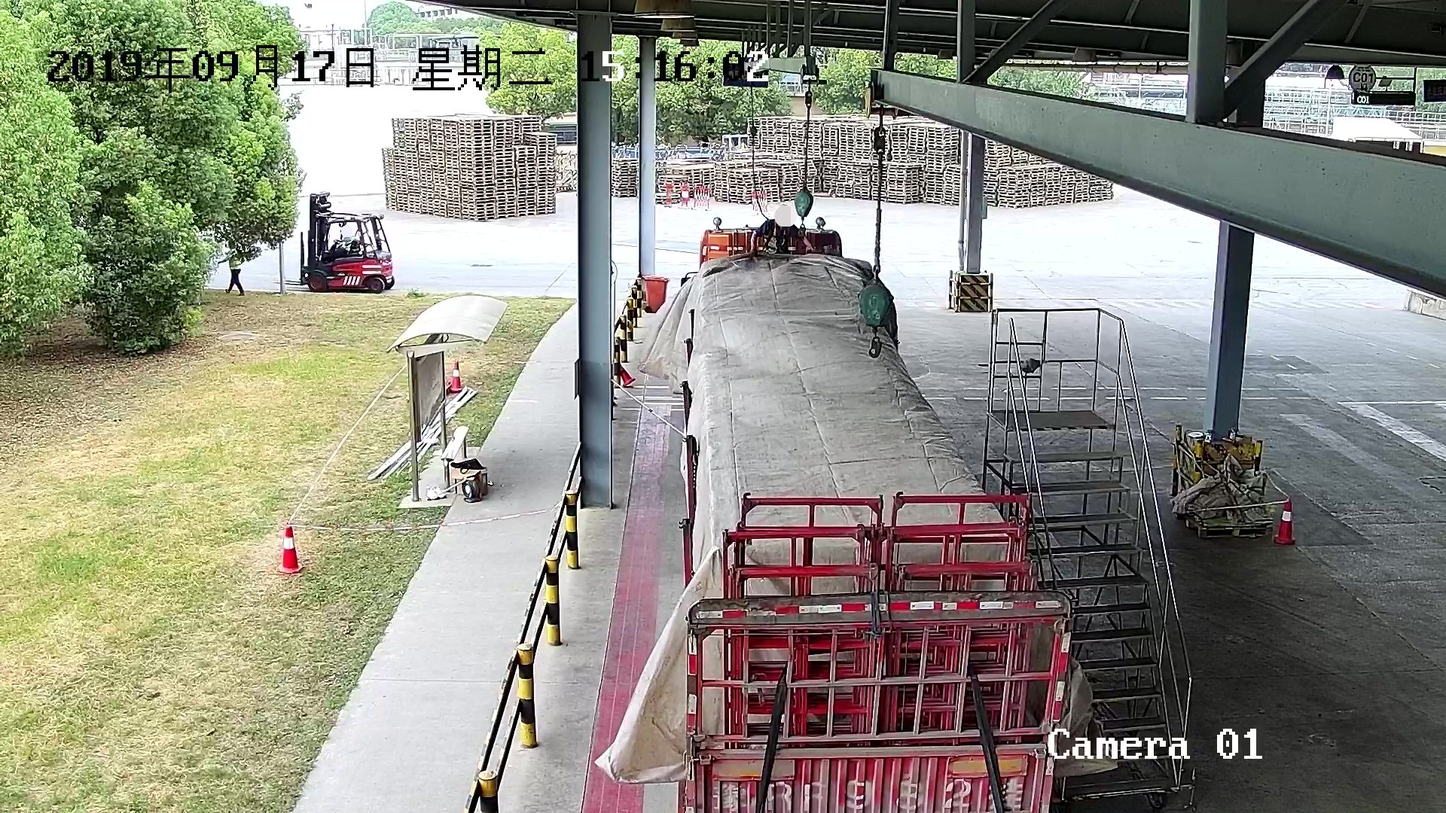hat: (772, 196, 798, 230)
head: (340, 227, 350, 235)
person: (749, 202, 816, 265), (216, 239, 245, 299), (332, 226, 362, 254)
